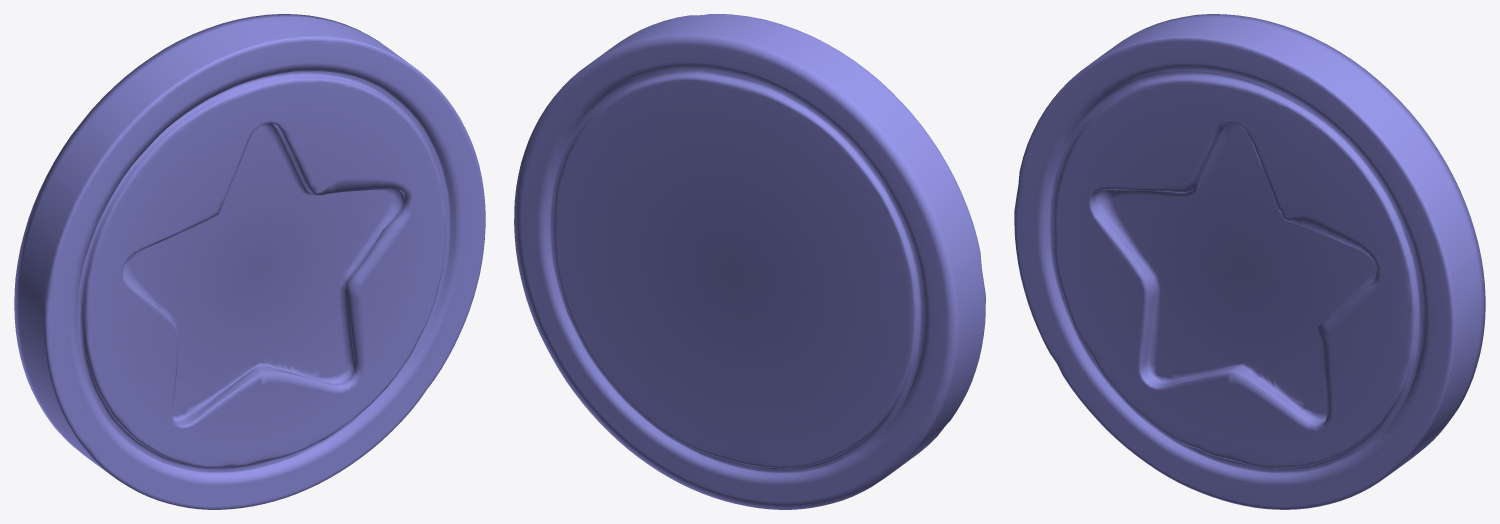
Rendered from Blue_Star_Badge.glb.
The picture shows the model from 3 angles, left to right: view 1: azimuth 30°, elevation 25°; view 2: azimuth 150°, elevation 25°; view 3: azimuth 330°, elevation 25°; orthographic projection.
Visible parts, largest first — view 1: Mesh_0; view 2: Mesh_0; view 3: Mesh_0.
Part boxes in pixels (bbox=[...]): Mesh_0: bbox=[14, 14, 485, 509]; Mesh_0: bbox=[514, 14, 985, 509]; Mesh_0: bbox=[1014, 14, 1485, 509].
Size of the model in its own units: 2 by 2 by 0.2556.
Materials: 1 (1 with a texture image).
